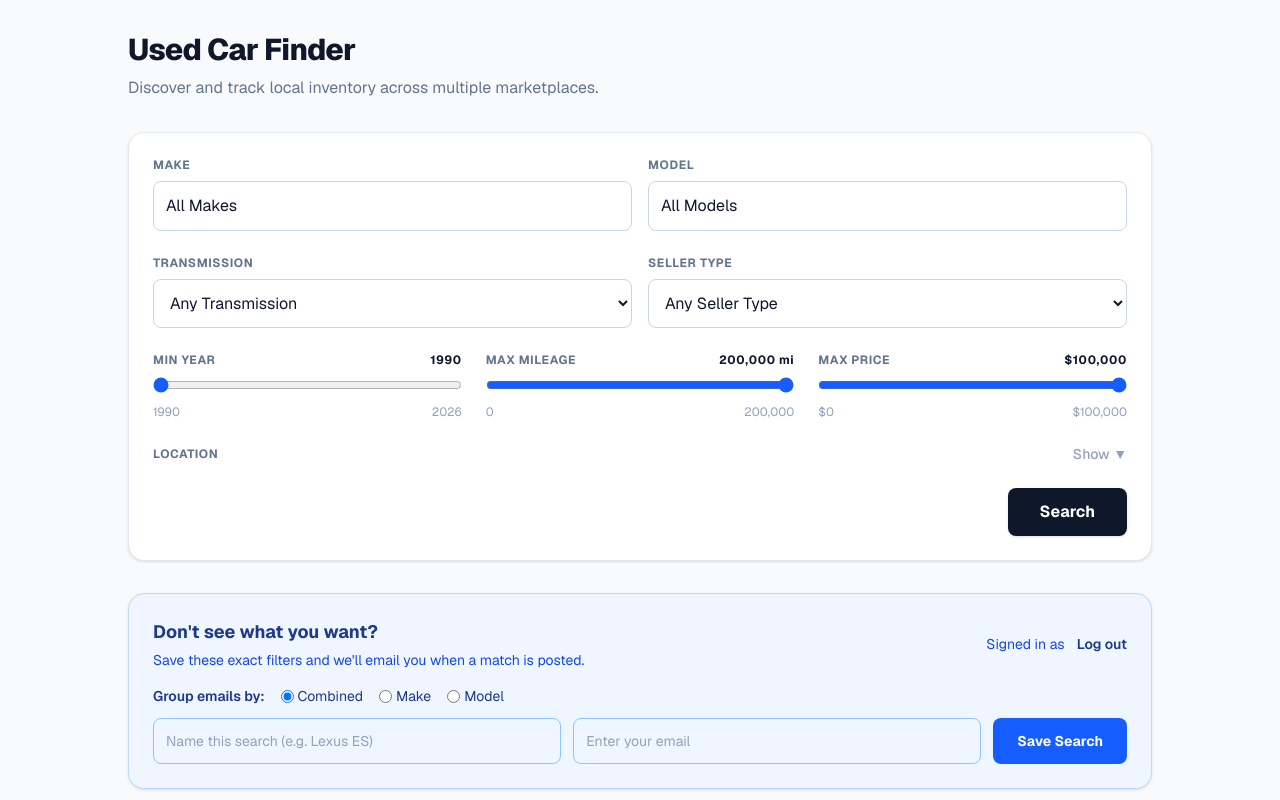
Test: save search › shows a Saved! confirmation after a successful save
This screenshot has width=1280, height=800.
Click the button "All Makes" at (202, 206), box [153, 181, 632, 231]
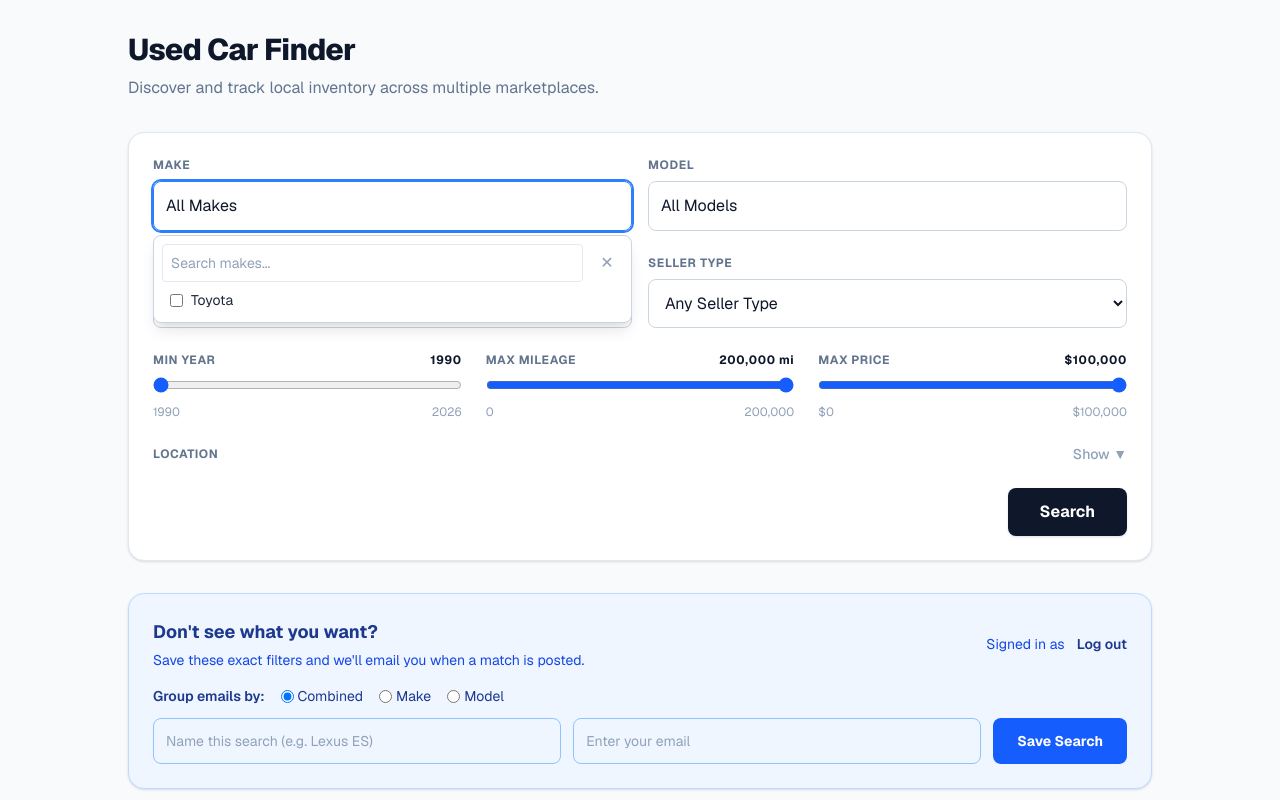
Click the checkbox labelled "Toyota" at (176, 300), box [170, 294, 183, 306]
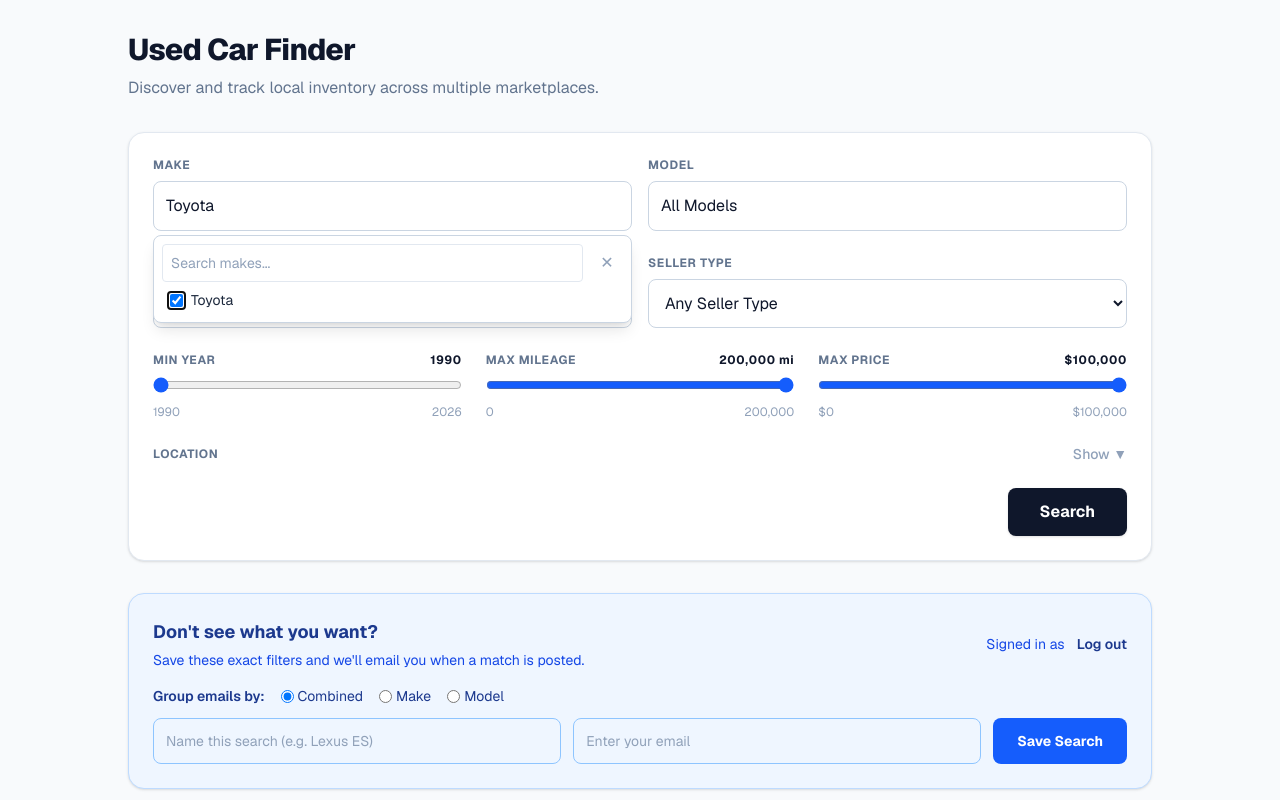
Type "buyer@example.com" into the field with placeholder "Enter your email" at (777, 741), box [573, 718, 981, 764]
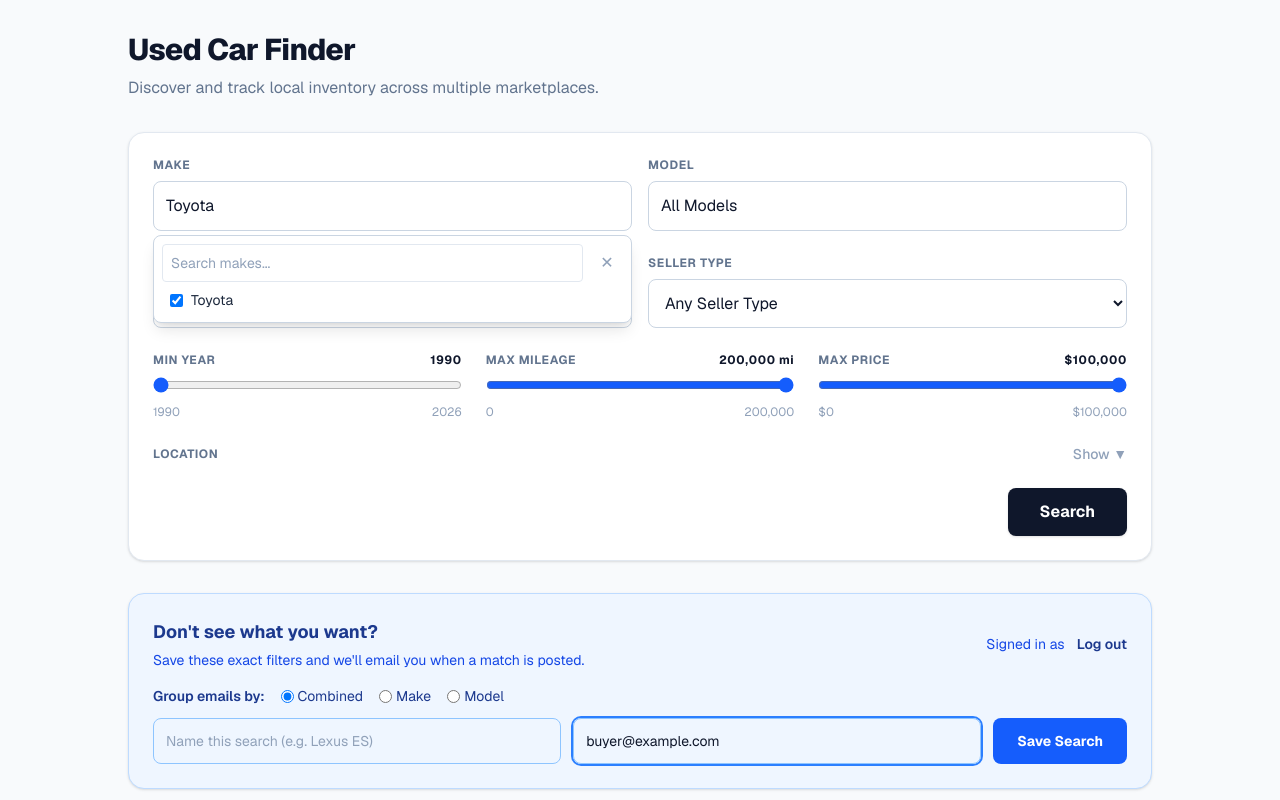
Click the button "Save Search" at (1060, 741), box [993, 718, 1127, 764]
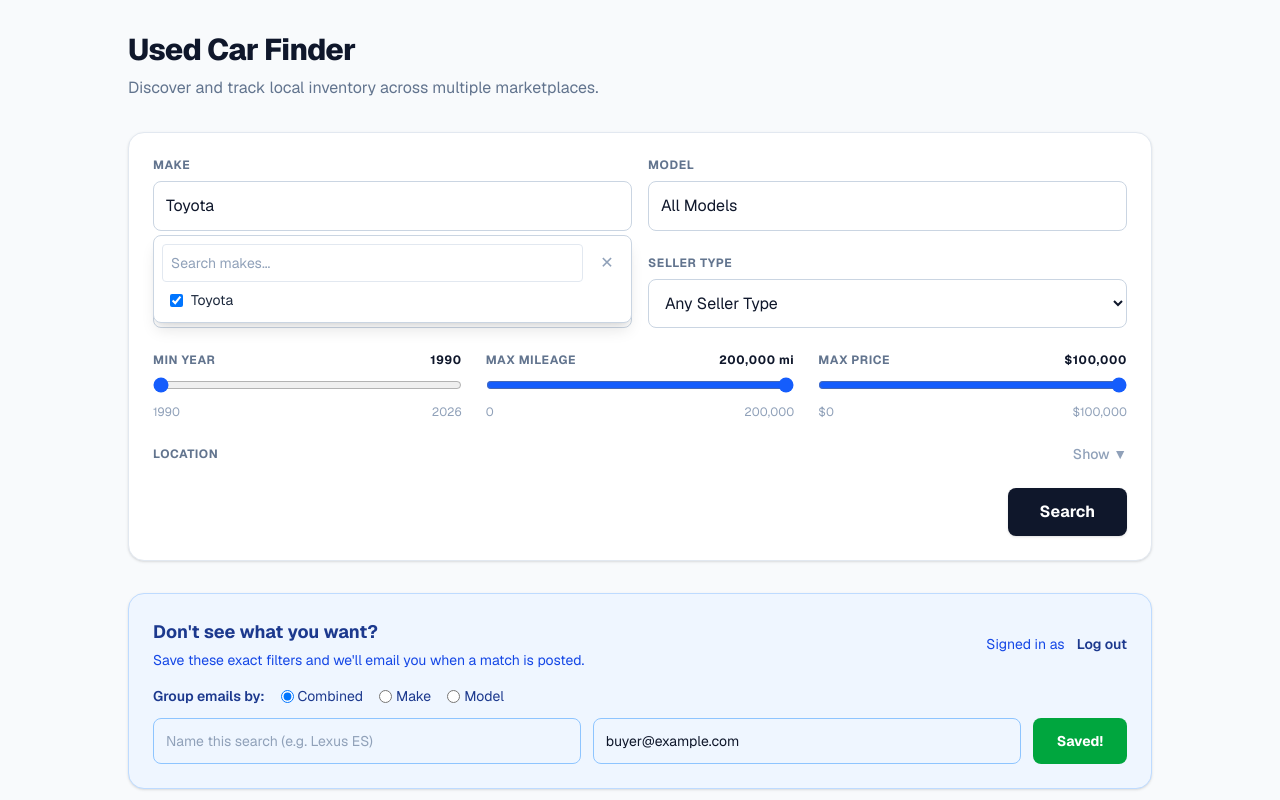
Check: the button "Saved!" is shown, box [1033, 718, 1127, 764]
